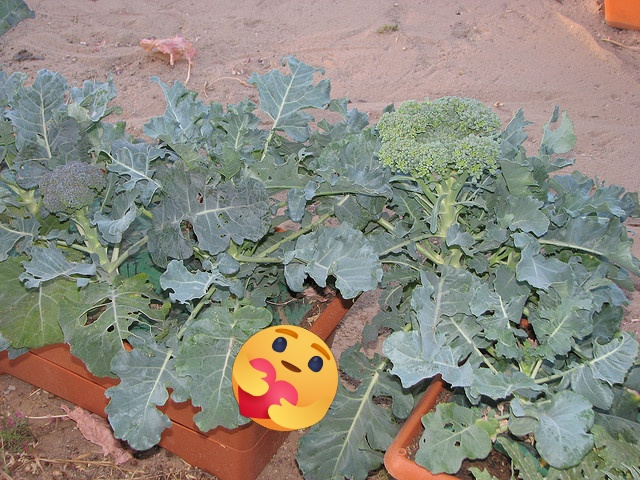care: (232, 325, 338, 431)
